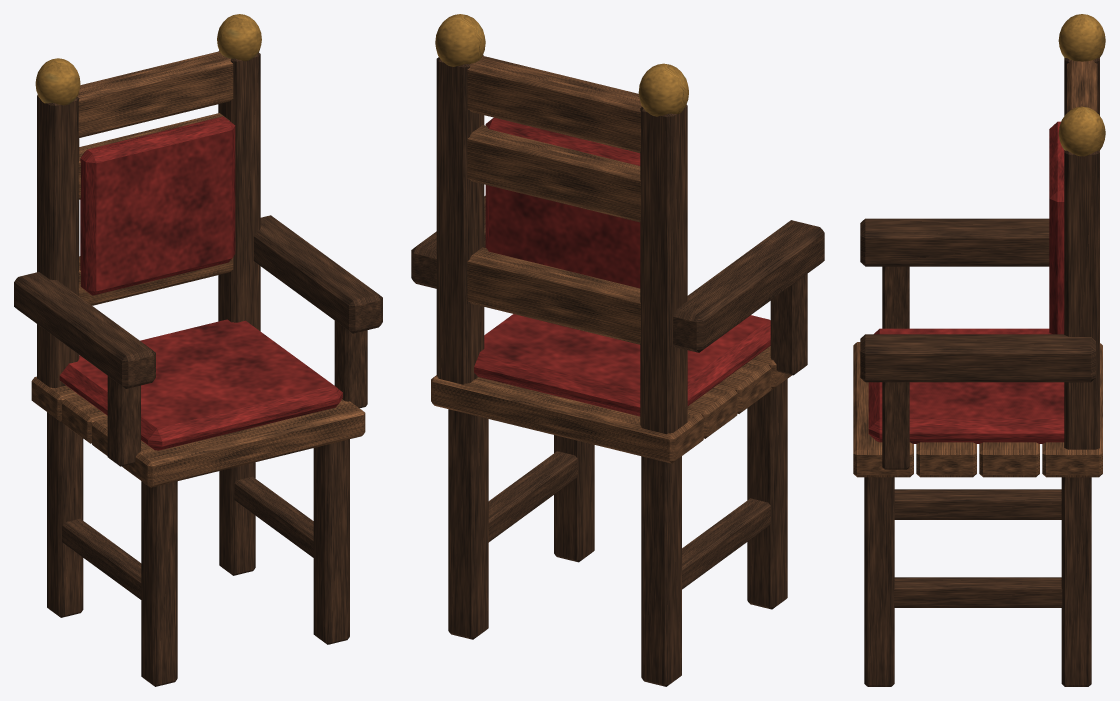
File: chair_noble.glb
3 renders of one model, left to right at view 1: azimuth 30°, elevation 25°; view 2: azimuth 150°, elevation 25°; view 3: azimuth 270°, elevation 25°, orthographic. The views are drawn at different scales.
Visible parts, largest first — view 1: oak_dark, red, oak, brass; view 2: oak_dark, oak, red, brass; view 3: oak_dark, red, oak, brass.
Part boxes in pixels (x1,y1,x2,y2): oak_dark: (14, 50, 382, 686); red: (59, 116, 342, 450); oak: (31, 51, 365, 487); brass: (35, 14, 261, 105); oak_dark: (411, 55, 824, 686); oak: (431, 56, 791, 463); red: (474, 117, 770, 416); brass: (435, 14, 688, 116); oak_dark: (860, 58, 1099, 686); red: (868, 121, 1064, 443); oak: (853, 60, 1102, 477); brass: (1058, 14, 1105, 156).
Bounding box in the file's own units: 0.575 × 1.16 × 0.461.
4 materials, 4 textured.
